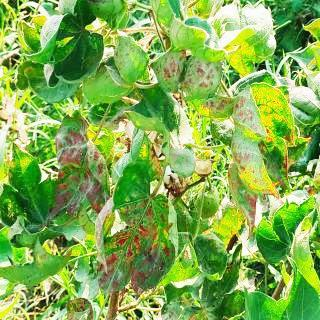blight: (87, 177, 197, 300), (219, 70, 303, 213), (45, 111, 113, 232)
